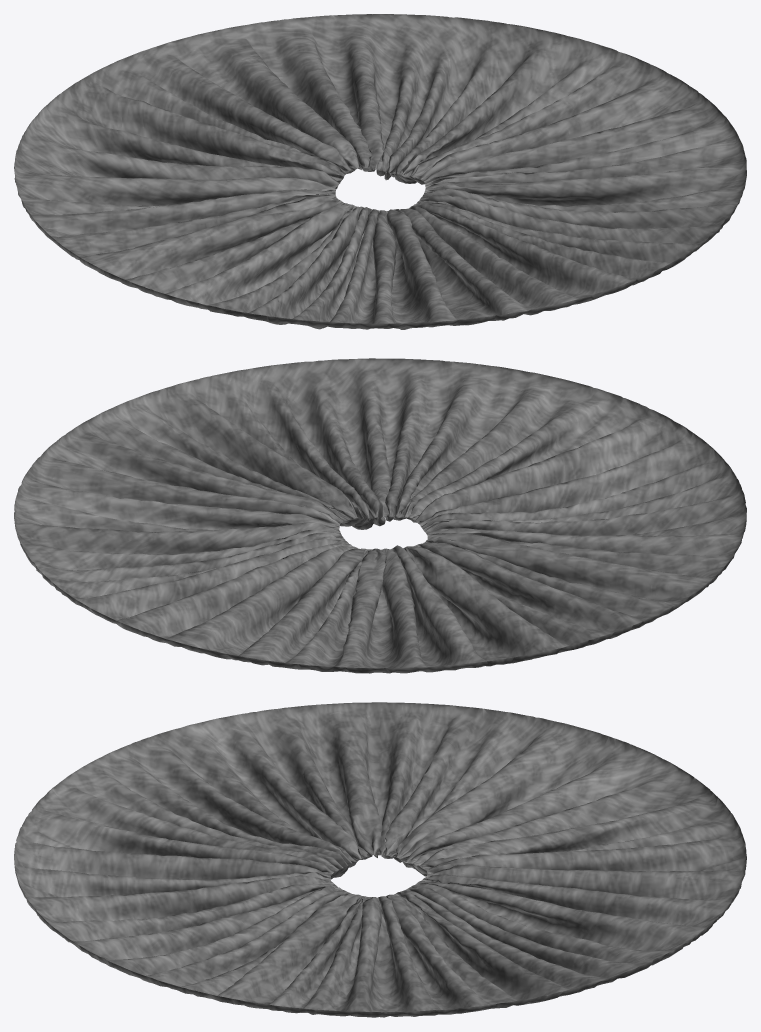
The model's file is gcdl2.gltf.
3 renders of one model, top to bottom at view 1: azimuth 30°, elevation 25°; view 2: azimuth 150°, elevation 25°; view 3: azimuth 270°, elevation 25°, orthographic.
Parts seen in each view (by area): view 1: gcdl2; view 2: gcdl2; view 3: gcdl2.
Boxes of the visible parts, x1,y1,x2,y2 form: gcdl2: (14,14,746,329); gcdl2: (14,358,746,673); gcdl2: (14,702,746,1017).
Size of the model in its own units: 7.68 by 0.6583 by 7.68.
1 material, 1 textured.
